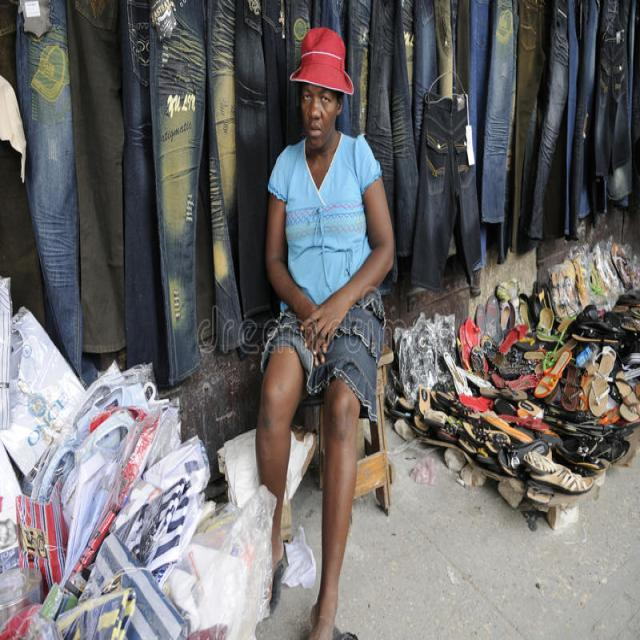clothes: (17, 0, 154, 350), (366, 0, 496, 290), (146, 0, 244, 363)
